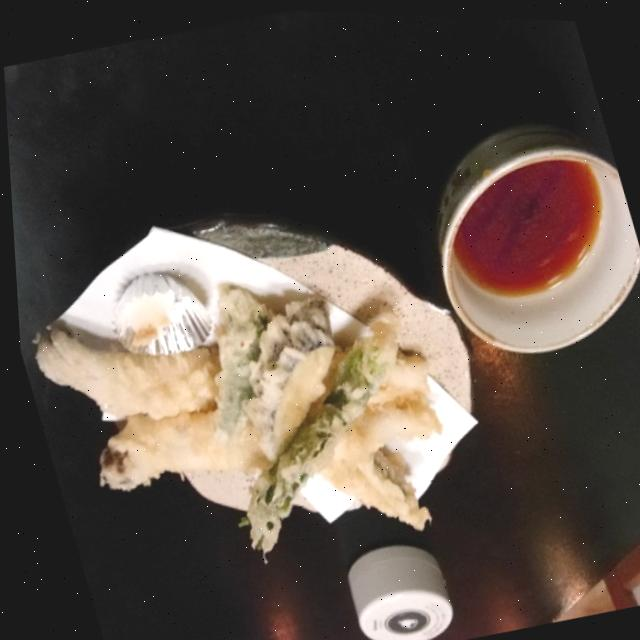蔬菜料理: (10, 217, 477, 606)
